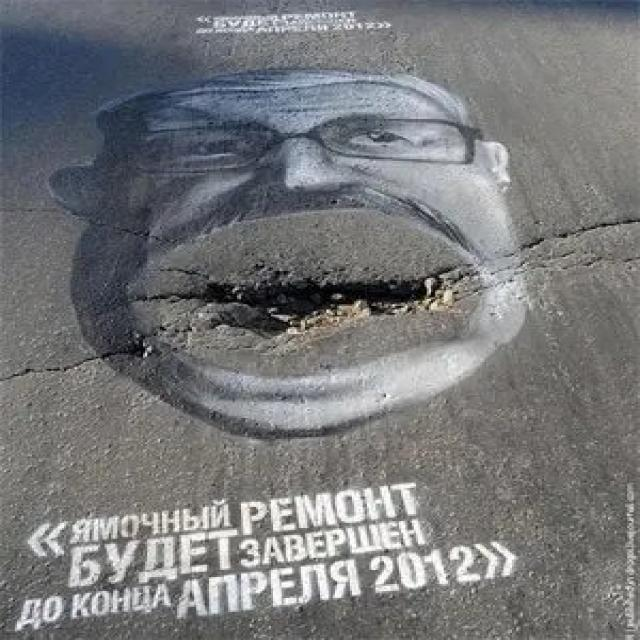Buraco: (175, 263, 481, 346)
